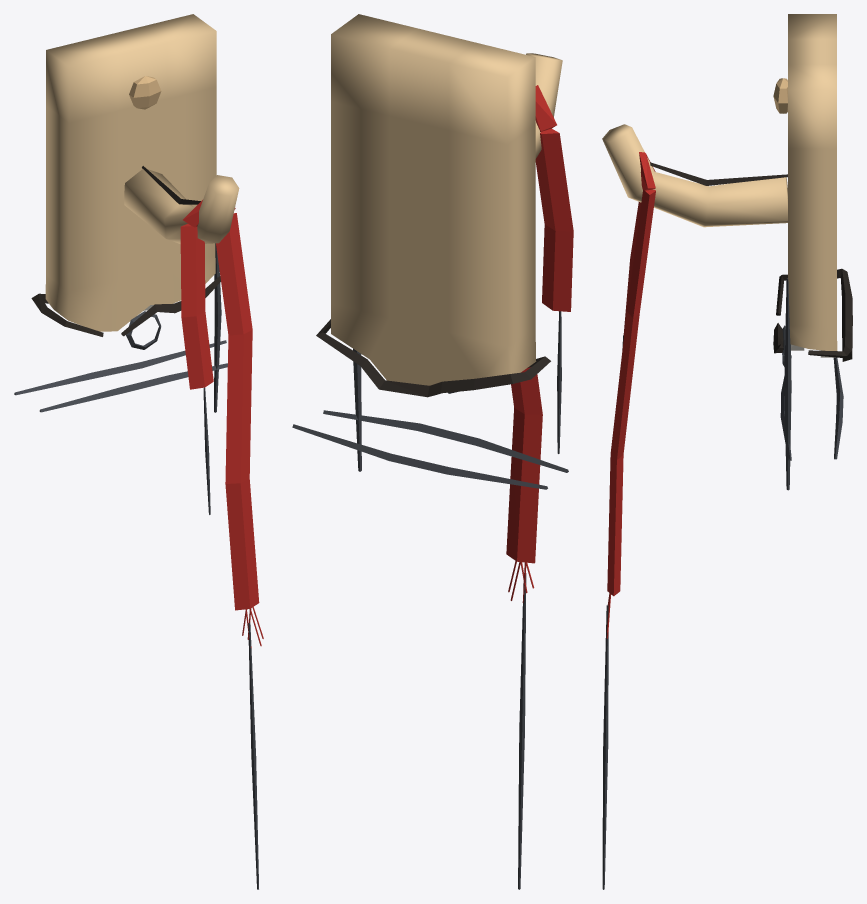
The model's file is CordHook.fbx.
3 views of the same model, side by side, from view 1: azimuth 30°, elevation 25°; view 2: azimuth 150°, elevation 25°; view 3: azimuth 270°, elevation 25° (orthographic). The views are drawn at different scales.
Parts seen in each view (by area): view 1: Hook, Cord, Lines; view 2: Hook, Cord, Lines; view 3: Hook, Cord, Lines.
Part boxes in pixels (x1,y1,x2,y2): Hook: [45, 14, 239, 331]; Cord: [180, 200, 263, 647]; Lines: [14, 166, 258, 889]; Hook: [331, 14, 562, 385]; Cord: [506, 85, 573, 602]; Lines: [292, 311, 568, 889]; Hook: [602, 14, 837, 357]; Cord: [606, 152, 655, 638]; Lines: [602, 162, 852, 889].
Bounding box in the file's own units: 0.1579 × 0.558 × 0.154.
